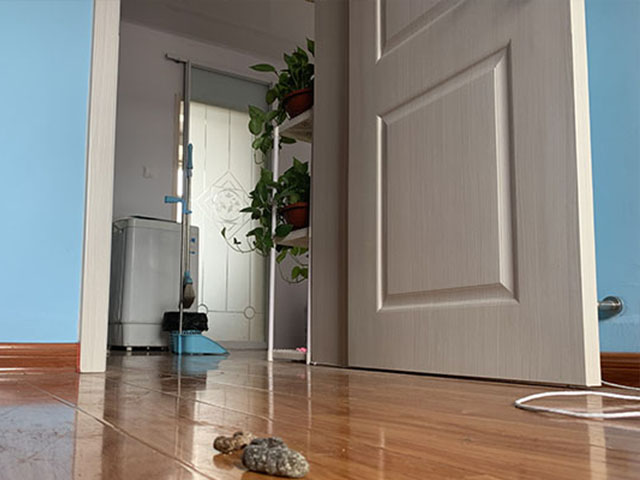feces: (211, 425, 314, 477)
wire: (512, 382, 640, 421)
